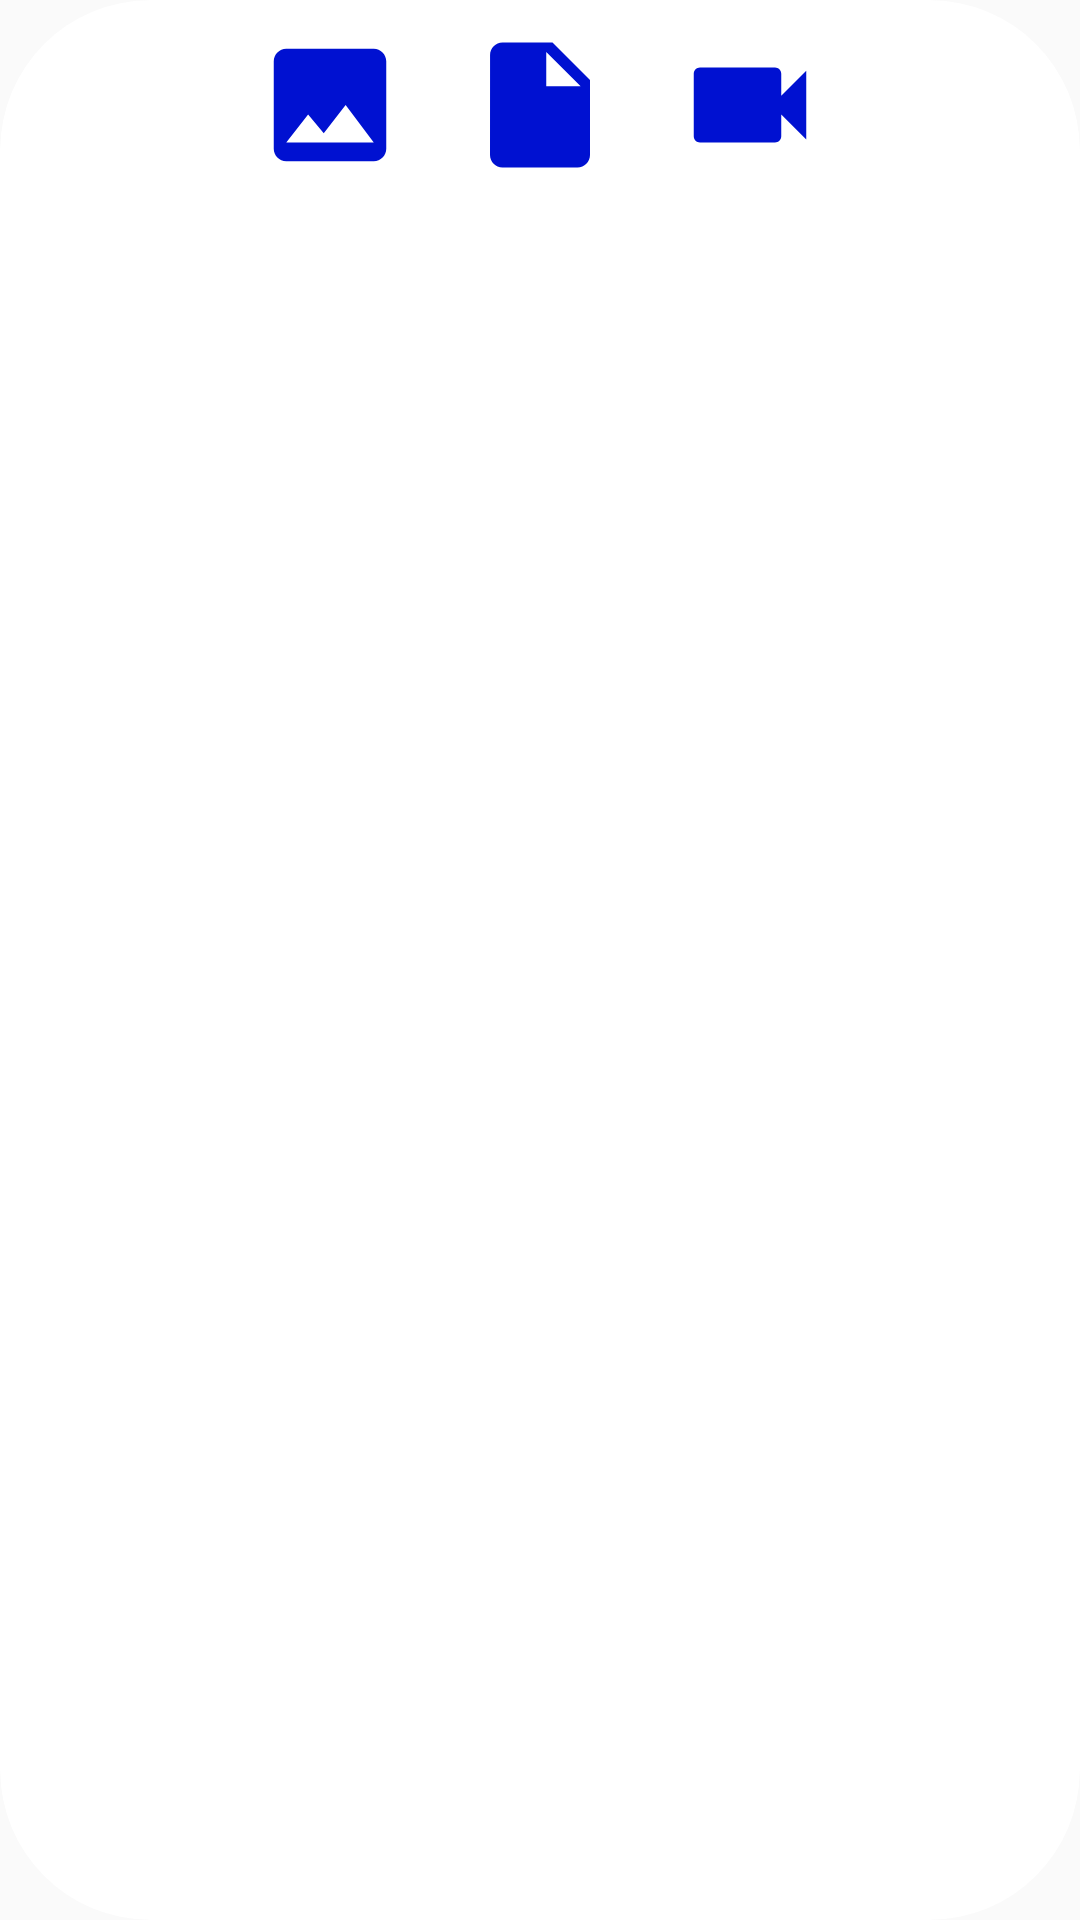

Locate icon controls on the screen. Image size 1080 x 1920, boxes as (x1, y1, x2, y2).
insert drive file: (490, 42, 590, 168)
videocam: (693, 67, 807, 143)
